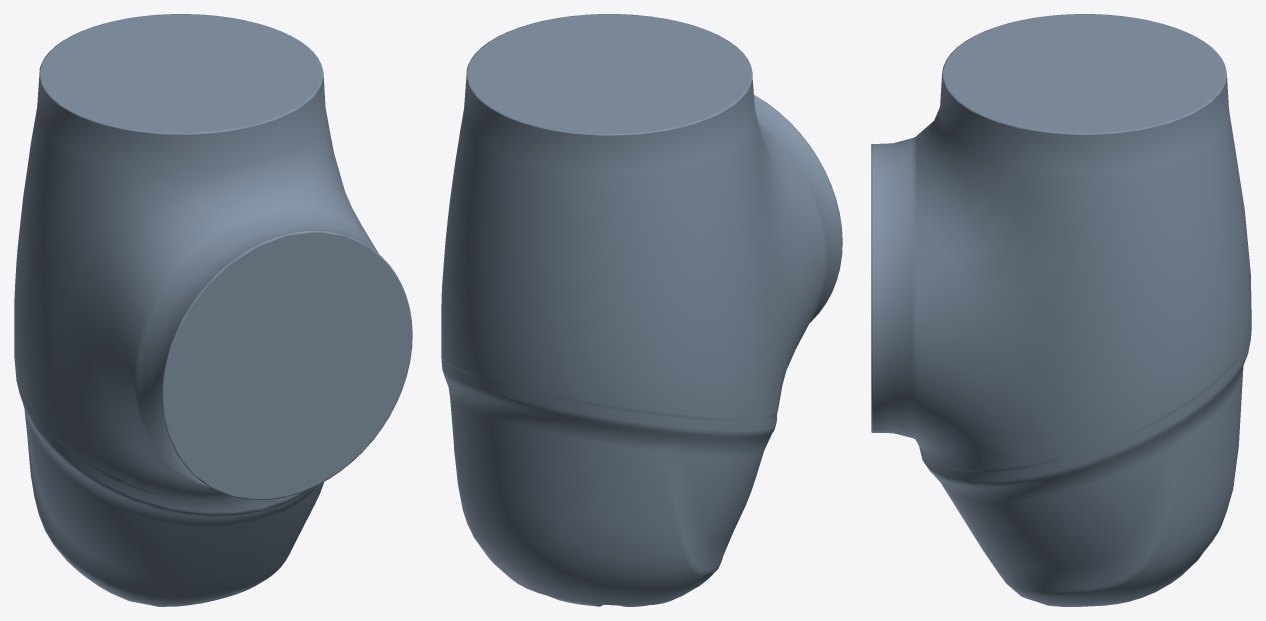
File: DoosanA0509S_j3.gltf
3 renders of one model, left to right at view 1: azimuth 30°, elevation 25°; view 2: azimuth 150°, elevation 25°; view 3: azimuth 270°, elevation 25°, orthographic.
Parts seen in each view (by area): view 1: J6_A0509S; view 2: J6_A0509S; view 3: J6_A0509S.
Boxes of the visible parts, box(x1,y1,x2,y2) form: J6_A0509S: box(14, 14, 412, 606); J6_A0509S: box(441, 14, 842, 606); J6_A0509S: box(871, 14, 1251, 606).
Size of the model in its own units: 0.1007 by 0.1688 by 0.1142.
